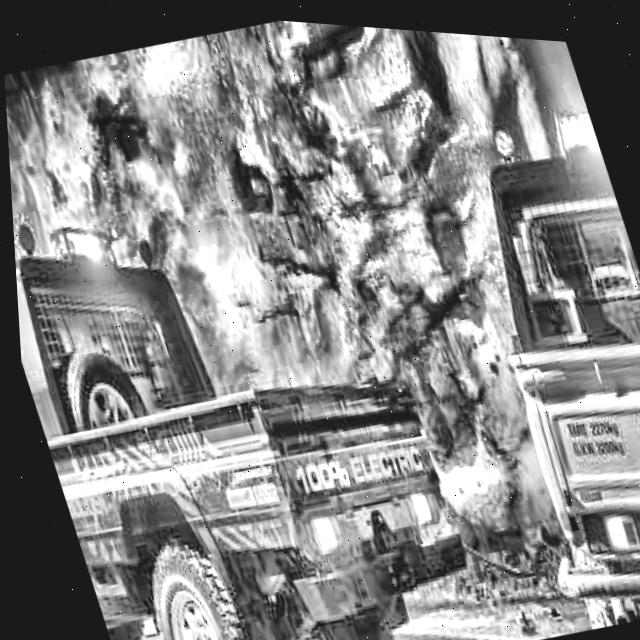light_vehicle: (4, 86, 524, 640), (390, 45, 640, 632)
